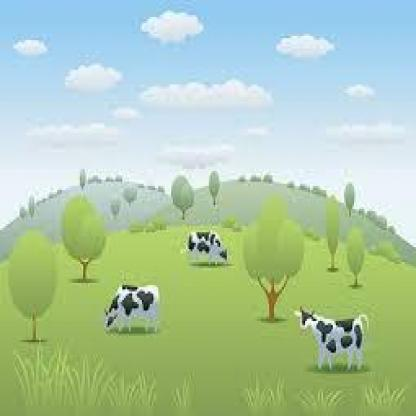cow: (294, 308, 368, 376), (104, 285, 162, 334), (188, 230, 230, 264)
